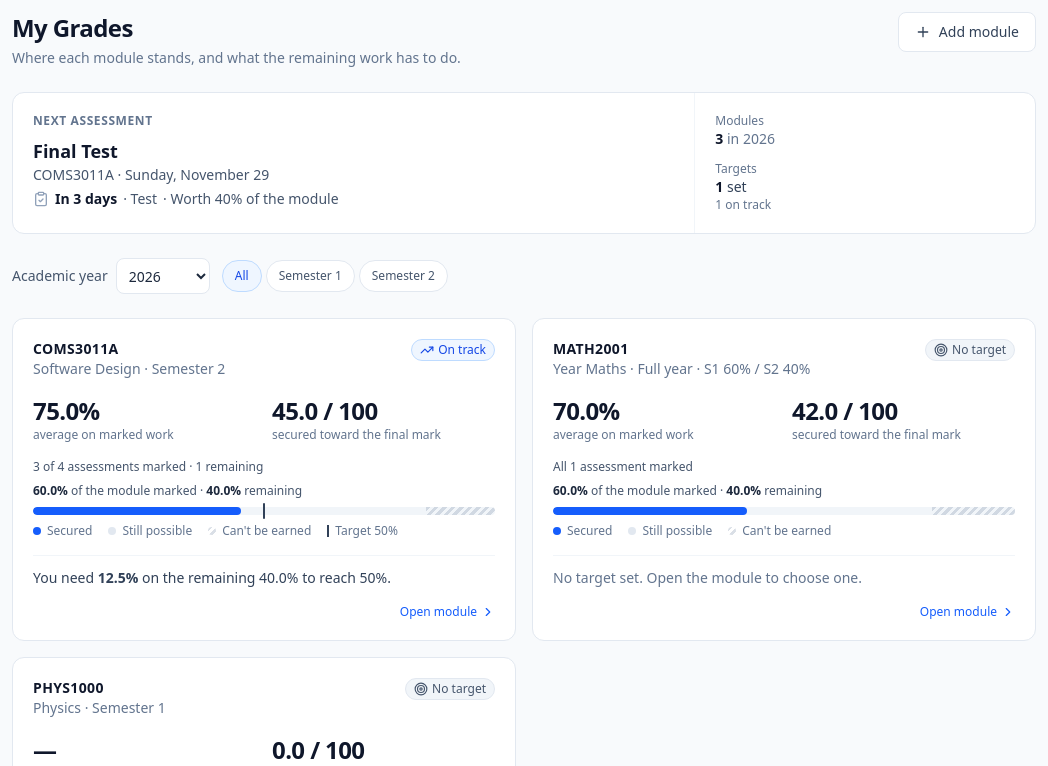
Test: GradesPage › shows full-year modules under both semesters
The width and height of the screenshot is (1048, 766).
Check: the text "COMS3011A" is shown, box [33,339,118,358]
Click the tab "Semester 1": (310, 276) [266,260,355,292]
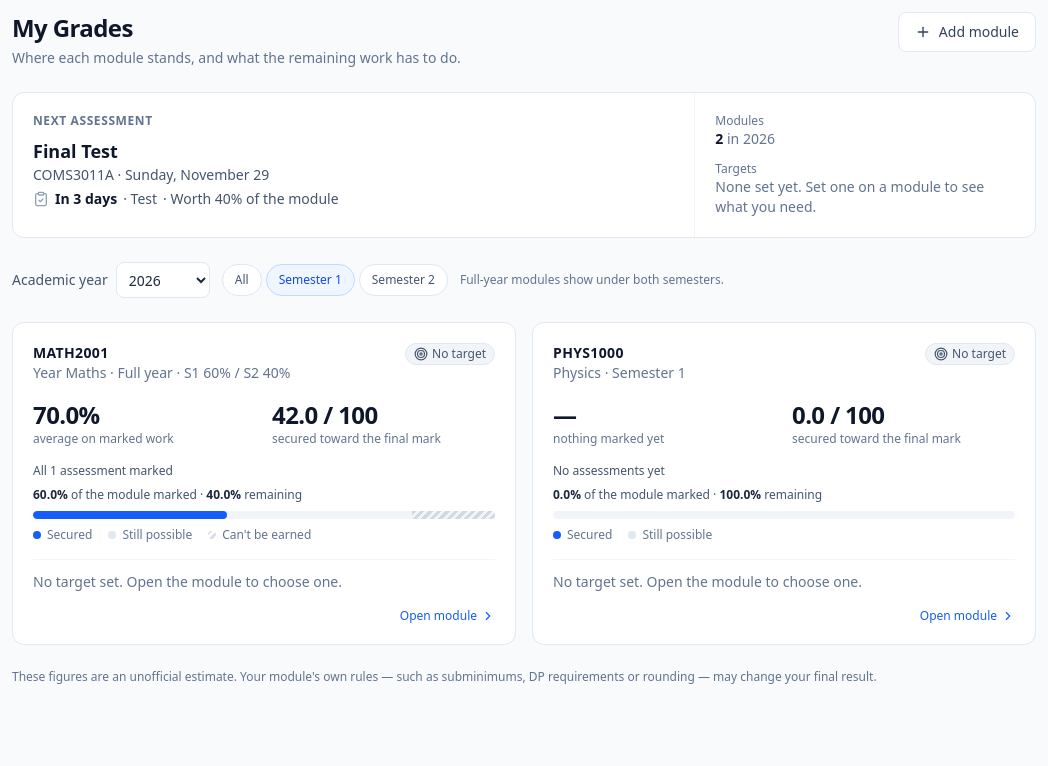
Check: the text "PHYS1000" is shown, box [553,343,624,362]
Check: the text "MATH2001" is shown, box [33,343,108,362]
Click the tab "Semester 2": (403, 280) [359,264,448,296]
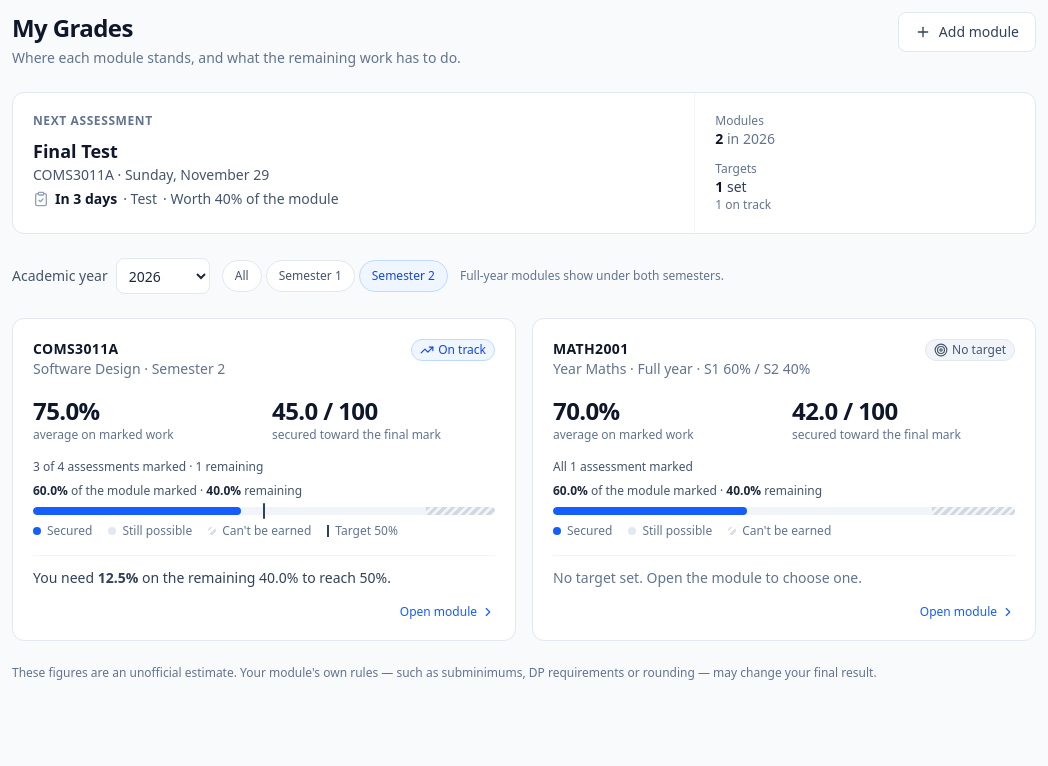
Check: the text "MATH2001" is shown, box [553,339,628,358]
Check: the text "COMS3011A" is shown, box [33,339,118,358]
Check: the link "PHYS1000" is gone
